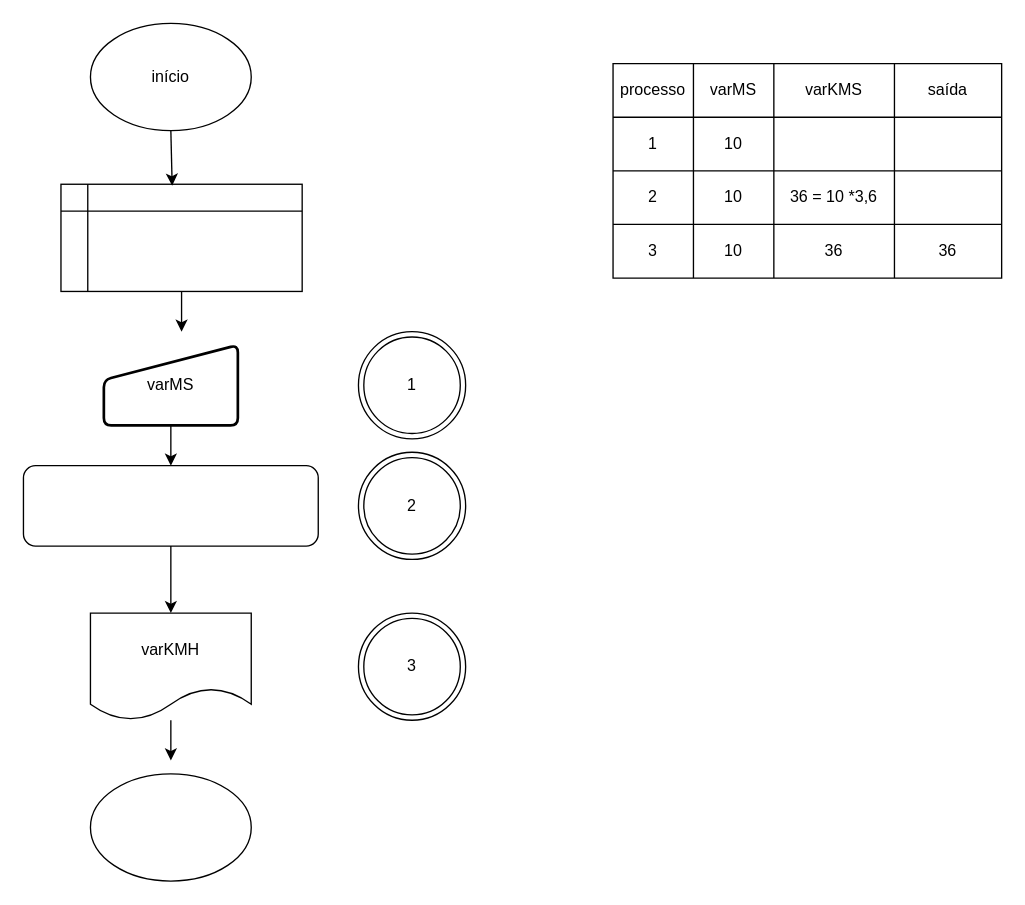
Image size: 1025x905. Some labels were removed from this diagram. The centre of each missing label's shape, as x and y in pixels:
fim: point 170,827
varKMH = varMS * 3,6: point 170,505
varMS, varKMH: point 181,237
